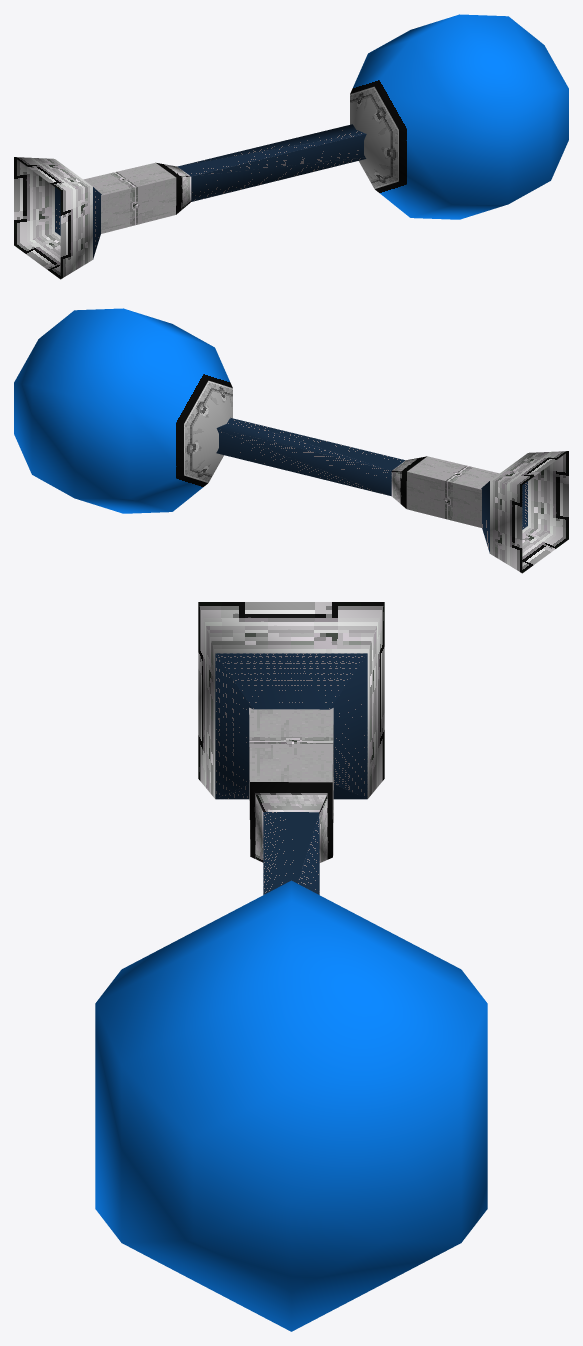
The model's file is Ball.obj.
The picture shows the model from 3 angles, top to bottom: view 1: azimuth 30°, elevation 25°; view 2: azimuth 150°, elevation 25°; view 3: azimuth 270°, elevation 25°; orthographic projection. The views are drawn at different scales.
Bounding box in the file's own units: 14.35 × 5.41 × 4.69.
Materials: 6 (6 with a texture image).
